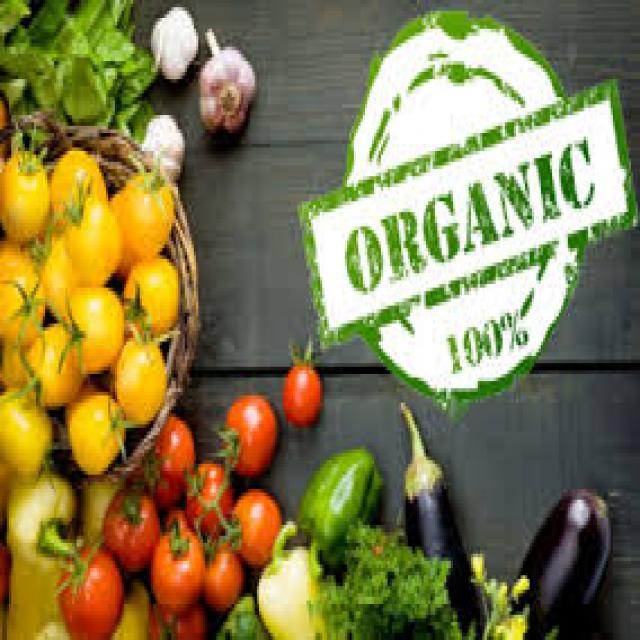organic waste: (396, 399, 484, 637), (0, 0, 151, 122), (306, 518, 459, 636), (507, 486, 611, 636), (295, 438, 383, 572), (252, 514, 327, 636), (59, 173, 120, 284), (5, 471, 72, 568), (112, 162, 174, 266), (194, 22, 252, 133), (56, 280, 122, 374), (210, 392, 275, 485), (0, 384, 52, 500), (58, 543, 122, 636), (65, 374, 122, 478), (120, 248, 182, 342), (101, 478, 160, 575), (216, 485, 282, 568), (467, 543, 525, 636), (0, 129, 47, 237), (149, 518, 205, 608), (22, 316, 79, 403), (140, 410, 194, 500), (110, 334, 164, 424), (49, 140, 106, 223), (32, 230, 84, 317), (180, 453, 230, 543), (0, 241, 41, 345), (9, 554, 59, 636), (147, 0, 196, 79), (279, 330, 320, 420), (201, 536, 241, 615), (140, 111, 185, 180), (110, 43, 158, 104), (61, 58, 106, 122), (217, 586, 270, 636), (110, 582, 151, 636), (146, 600, 203, 636), (0, 334, 29, 388), (160, 503, 189, 536), (95, 25, 128, 54), (0, 0, 29, 29)
